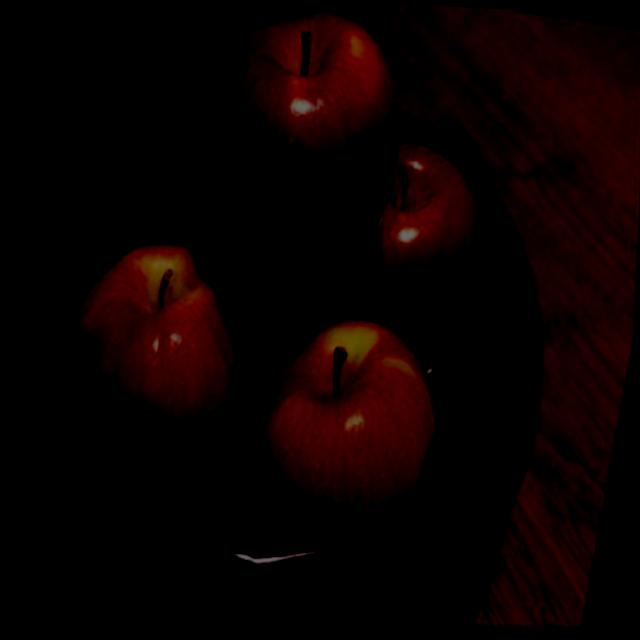Apple: (192, 14, 406, 300), (52, 236, 260, 522), (235, 316, 450, 556), (332, 130, 488, 348)
